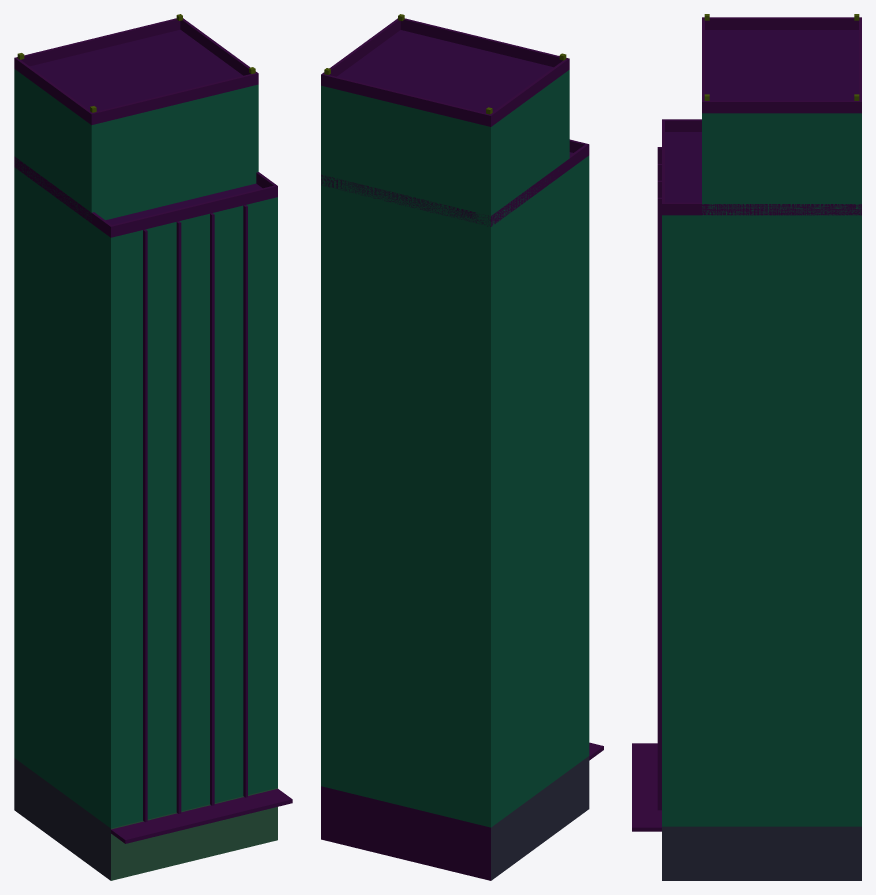
File: slab_j.lod2.glb
3 views of the same model, side by side, from view 1: azimuth 30°, elevation 25°; view 2: azimuth 150°, elevation 25°; view 3: azimuth 270°, elevation 25° (orthographic). The views are drawn at different scales.
Visible parts, largest first — view 1: slab_j.lod2; view 2: slab_j.lod2; view 3: slab_j.lod2.
Part boxes in pixels (x1,y1,x2,y2): slab_j.lod2: (14, 14, 292, 880); slab_j.lod2: (321, 14, 603, 880); slab_j.lod2: (632, 14, 861, 880).
Size of the model in its own units: 16 by 69.2 by 18.4.
